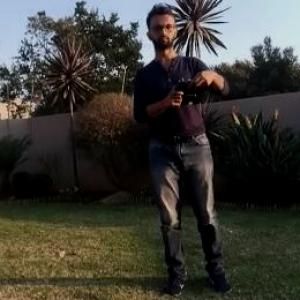follow: (128, 0, 238, 299)
